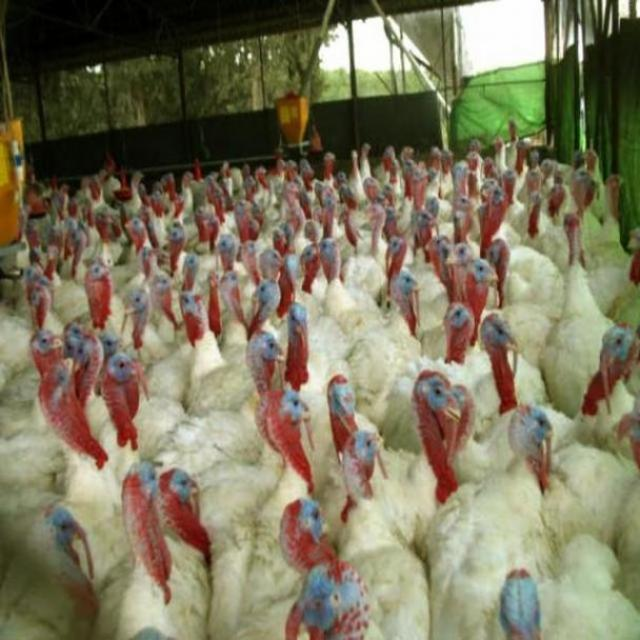Chicken: (291, 504, 394, 639)
